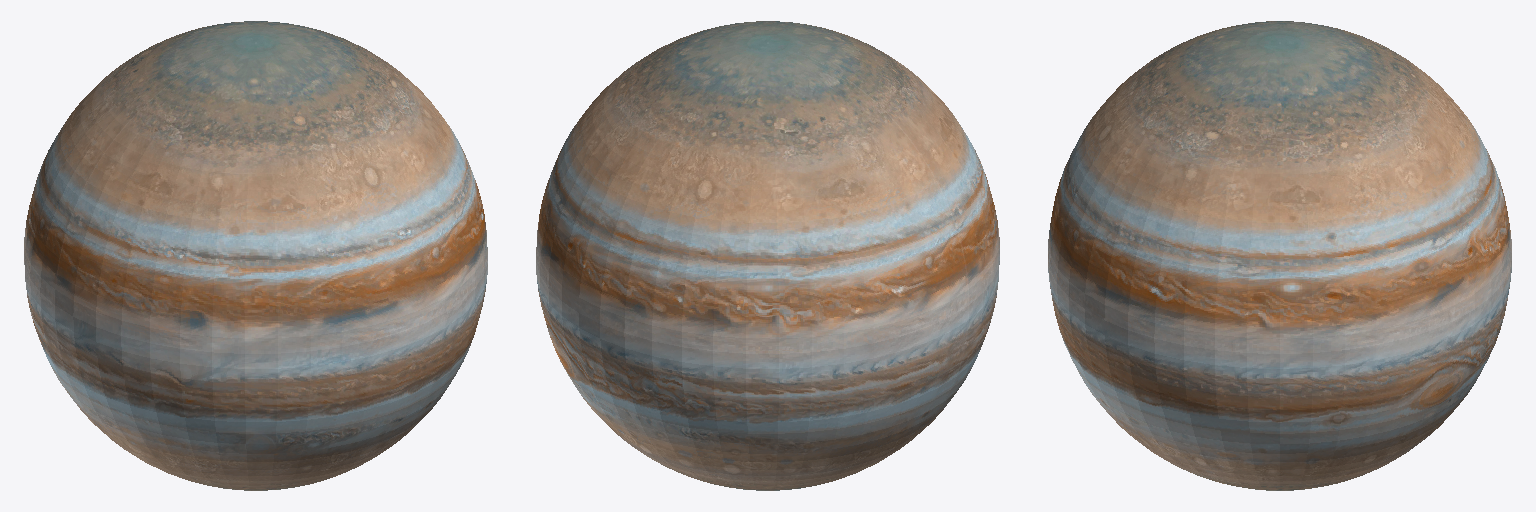
3 renders of one model, left to right at view 1: azimuth 30°, elevation 25°; view 2: azimuth 150°, elevation 25°; view 3: azimuth 270°, elevation 25°, orthographic.
Visible parts, largest first — view 1: Jupiter; view 2: Jupiter; view 3: Jupiter.
Part boxes in pixels (bbox=[...]): Jupiter: bbox=[24, 21, 487, 490]; Jupiter: bbox=[536, 21, 999, 490]; Jupiter: bbox=[1048, 21, 1511, 490].
Bounding box in the file's own units: 4.92 × 4.97 × 4.92.
1 materials, 1 textured.